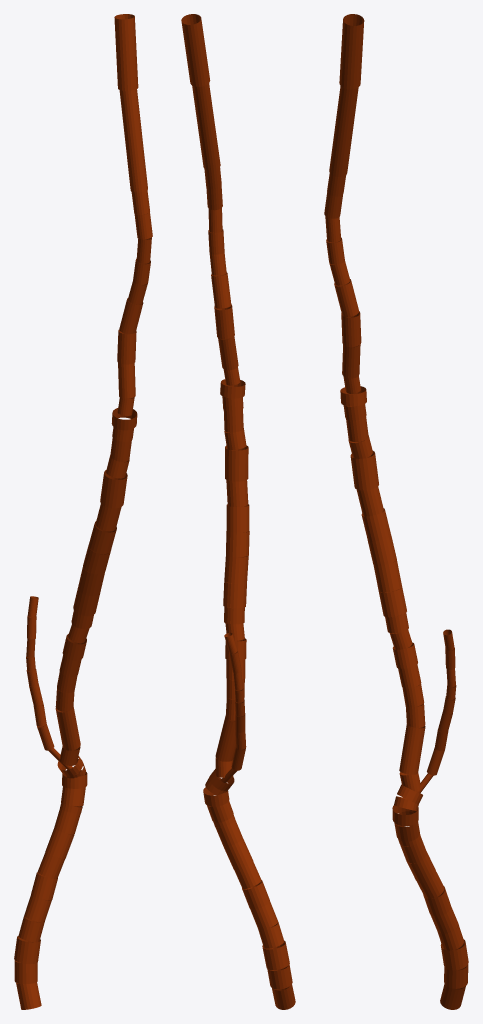
Rendered from tree_0065.obj.
3 renders of one model, left to right at view 1: azimuth 90°, elevation 25°; view 2: azimuth 210°, elevation 25°; view 3: azimuth 270°, elevation 25°, orthographic. The views are drawn at different scales.
Visible parts, largest first — view 1: groupWood; view 2: groupWood; view 3: groupWood.
Boxes of the visible parts, x1,y1,x2,y2 form: groupWood: [14, 14, 152, 1009]; groupWood: [181, 14, 295, 1009]; groupWood: [324, 14, 468, 1009].
Bounding box in the file's own units: 1.59 × 21.61 × 2.8.
